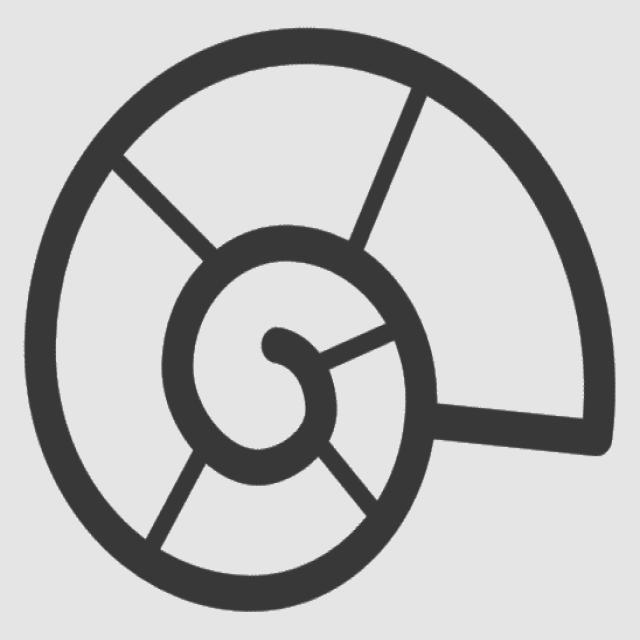fossil: (13, 20, 628, 623)
